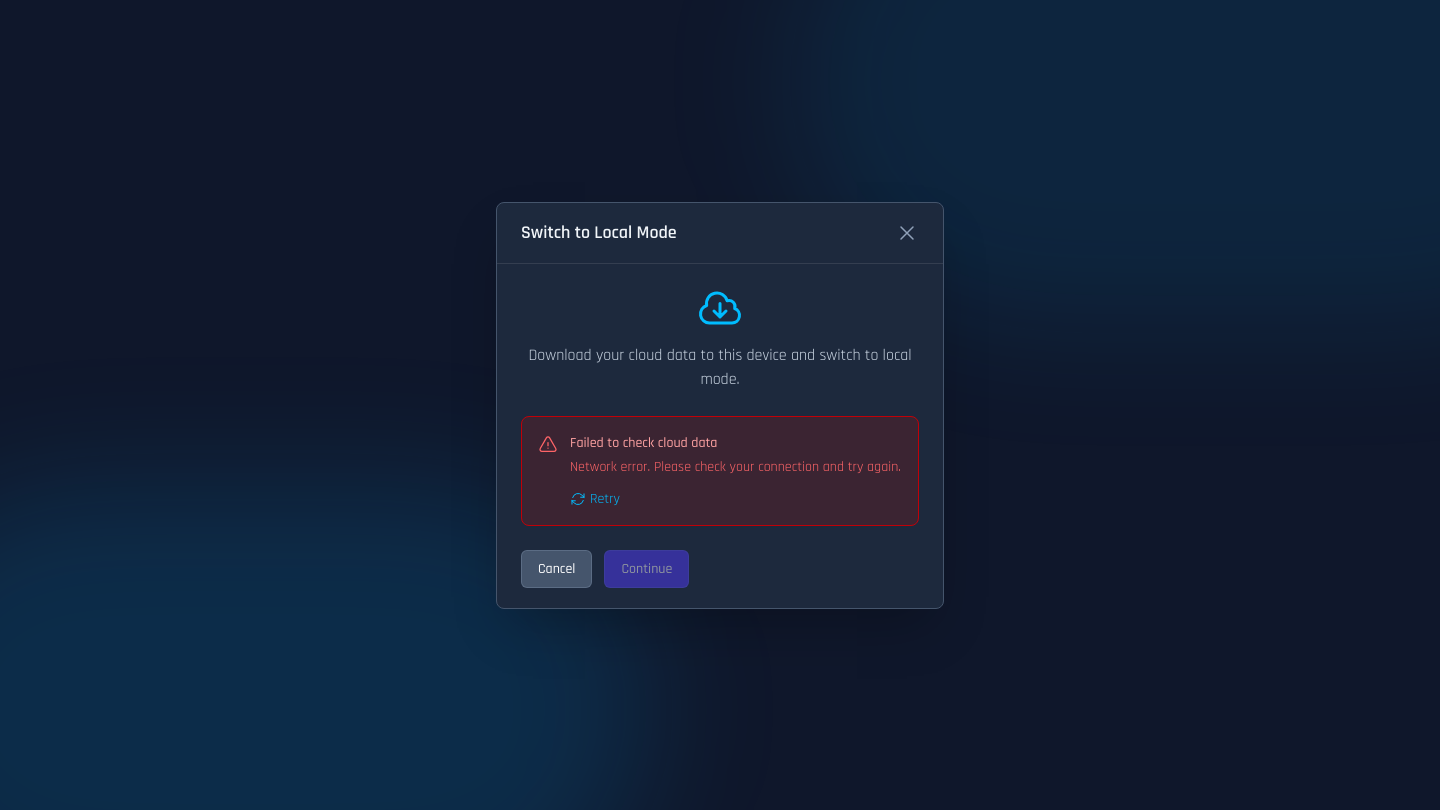
ReverseMigrationWizard › preview step › should retry loading summary when retry button clicked
Expected: the text "Network error. Please check your connection and try again." is shown, [570,456,902,476]
Click the button "Retry".
click(595, 498)  # box [570,488,620,508]
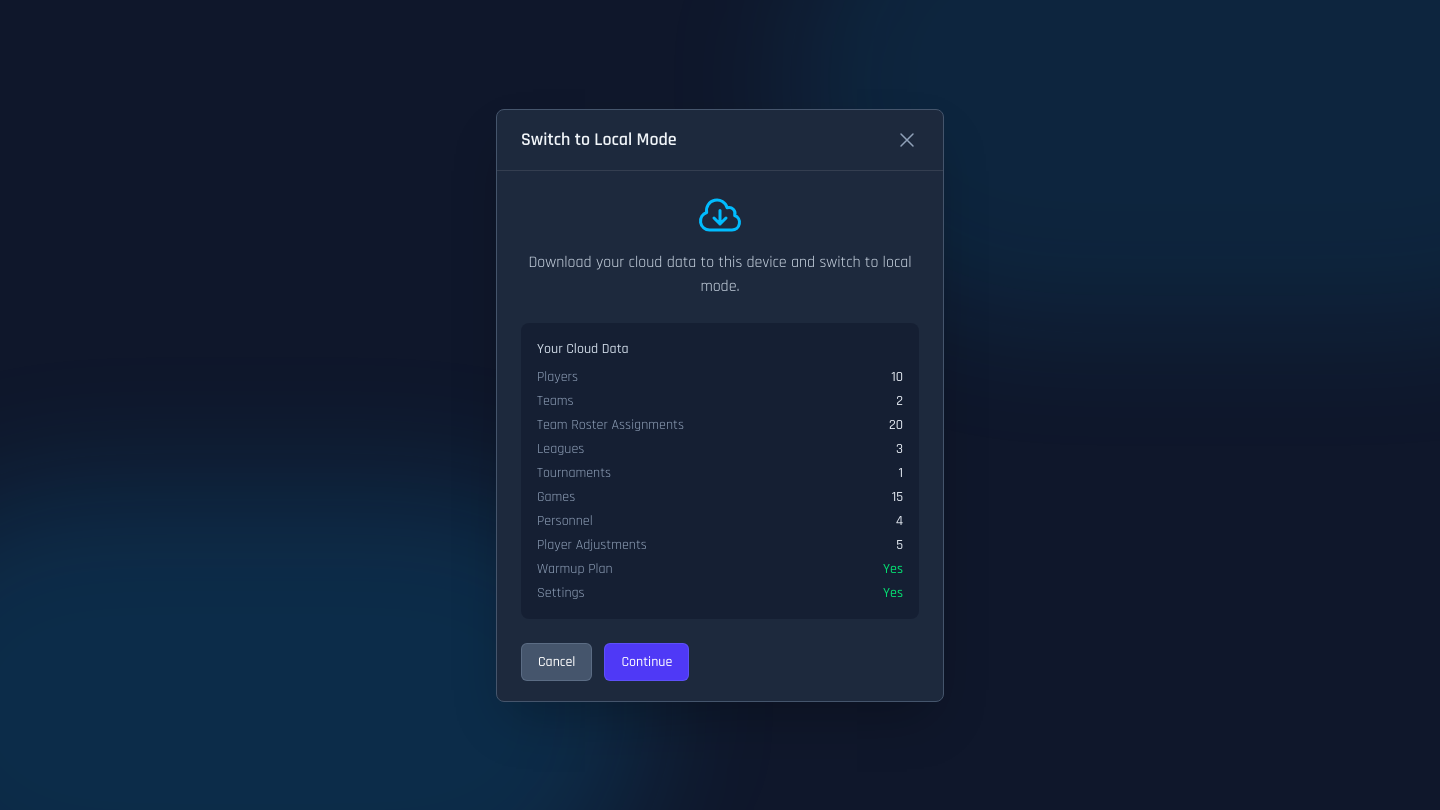
Expected: the heading "Your Cloud Data" is shown, [537,340,629,358]
